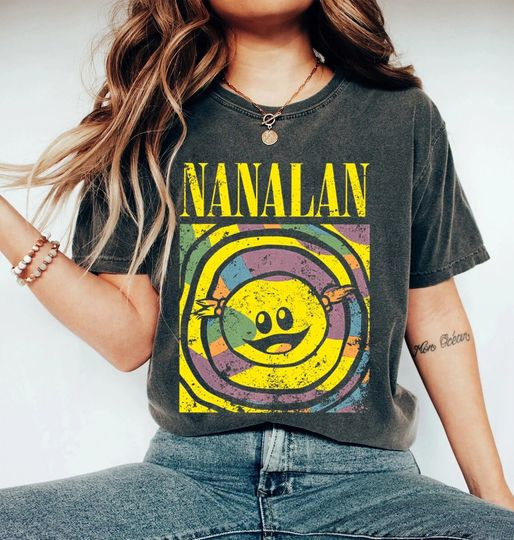design: (173, 158, 373, 415)
